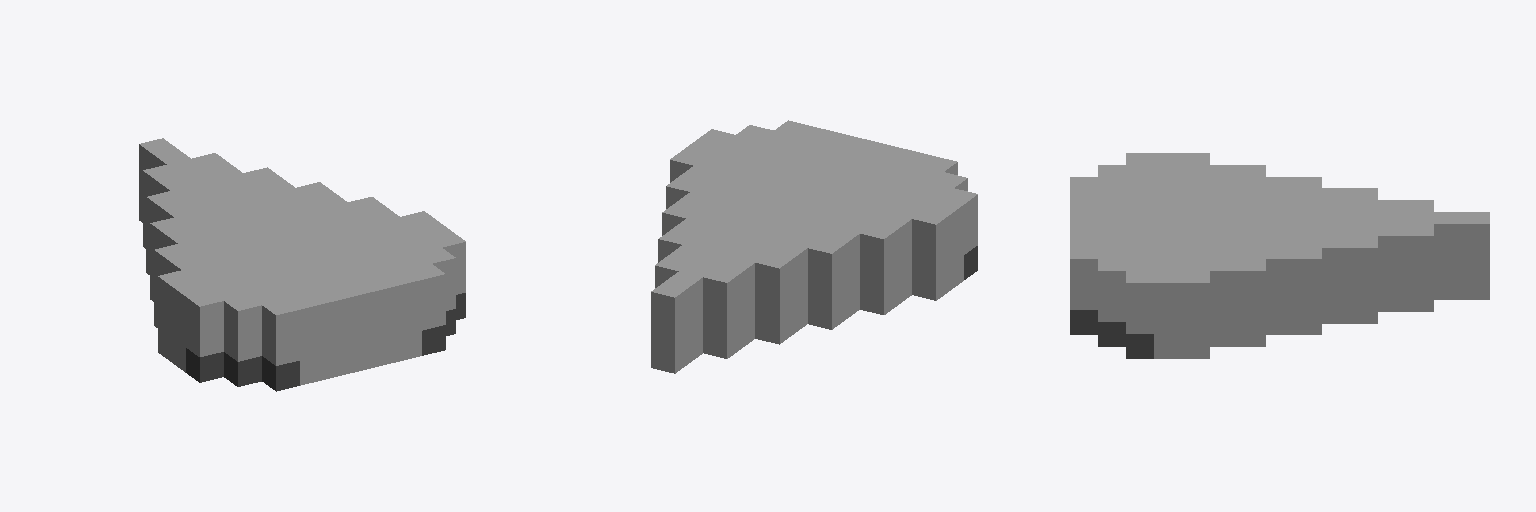
The picture shows the model from 3 angles: view 1: azimuth 30°, elevation 25°; view 2: azimuth 150°, elevation 25°; view 3: azimuth 270°, elevation 25°; orthographic projection.
Visible parts, largest first — view 1: object 1; view 2: object 1; view 3: object 1.
Boxes of the visible parts, <box> form: object 1: <box>139,138,465,391</box>; object 1: <box>651,120,977,373</box>; object 1: <box>1070,153,1489,358</box>.
Size of the model in its own units: 1.1 by 0.3 by 1.5.
Materials: 1 (1 with a texture image).